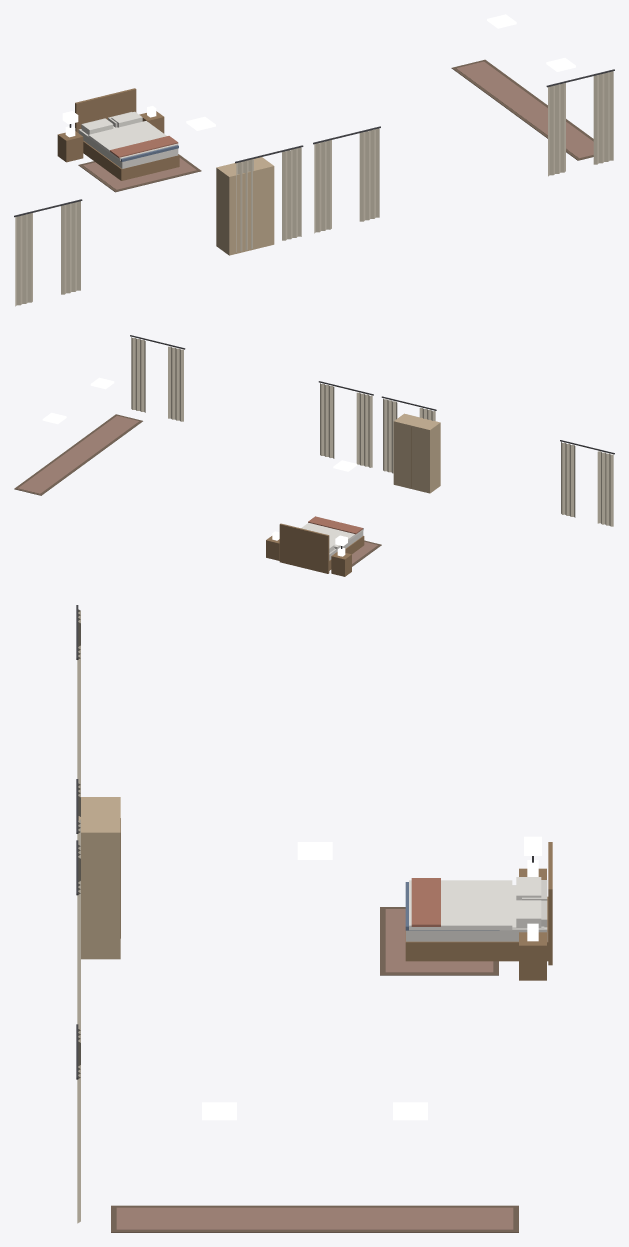
The model's file is fine-s1.glb.
3 views of the same model, one above another, from view 1: azimuth 30°, elevation 25°; view 2: azimuth 150°, elevation 25°; view 3: azimuth 270°, elevation 25° (orthographic). The views are drawn at different scales.
Parts seen in each view (by area): view 1: soft-s1, dresser.000, bed-frame.000, nightstand.000; view 2: soft-s1, dresser.000, bed-frame.000, nightstand.000, nightstand.001; view 3: soft-s1, dresser.000, bed-frame.000, nightstand.001.
Boxes of the visible parts, left/top/right/bottom form: soft-s1: left=14, top=59, right=614, bottom=306; dresser.000: left=216, top=157, right=274, bottom=255; bed-frame.000: left=75, top=88, right=179, bottom=180; nightstand.000: left=57, top=125, right=83, bottom=162; soft-s1: left=14, top=335, right=614, bottom=566; dresser.000: left=393, top=413, right=440, bottom=493; bed-frame.000: left=279, top=523, right=364, bottom=573; nightstand.000: left=331, top=547, right=351, bottom=576; nightstand.001: left=266, top=531, right=279, bottom=560; soft-s1: left=76, top=605, right=544, bottom=1232; dresser.000: left=78, top=797, right=120, bottom=959; bed-frame.000: left=405, top=842, right=552, bottom=965; nightstand.001: left=519, top=923, right=546, bottom=980.
Bounding box in the file's own units: 16.18 × 2.36 × 6.8.
